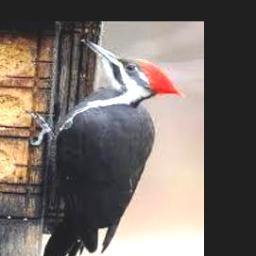Woodpecker: (28, 38, 184, 256)
